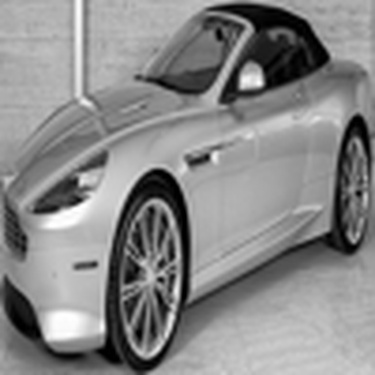car: (1, 15, 370, 373)
